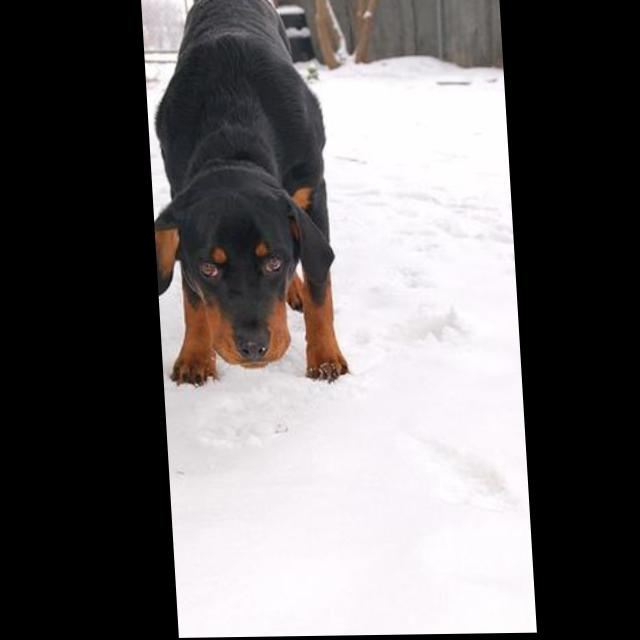rottweiler: (142, 1, 347, 389)
